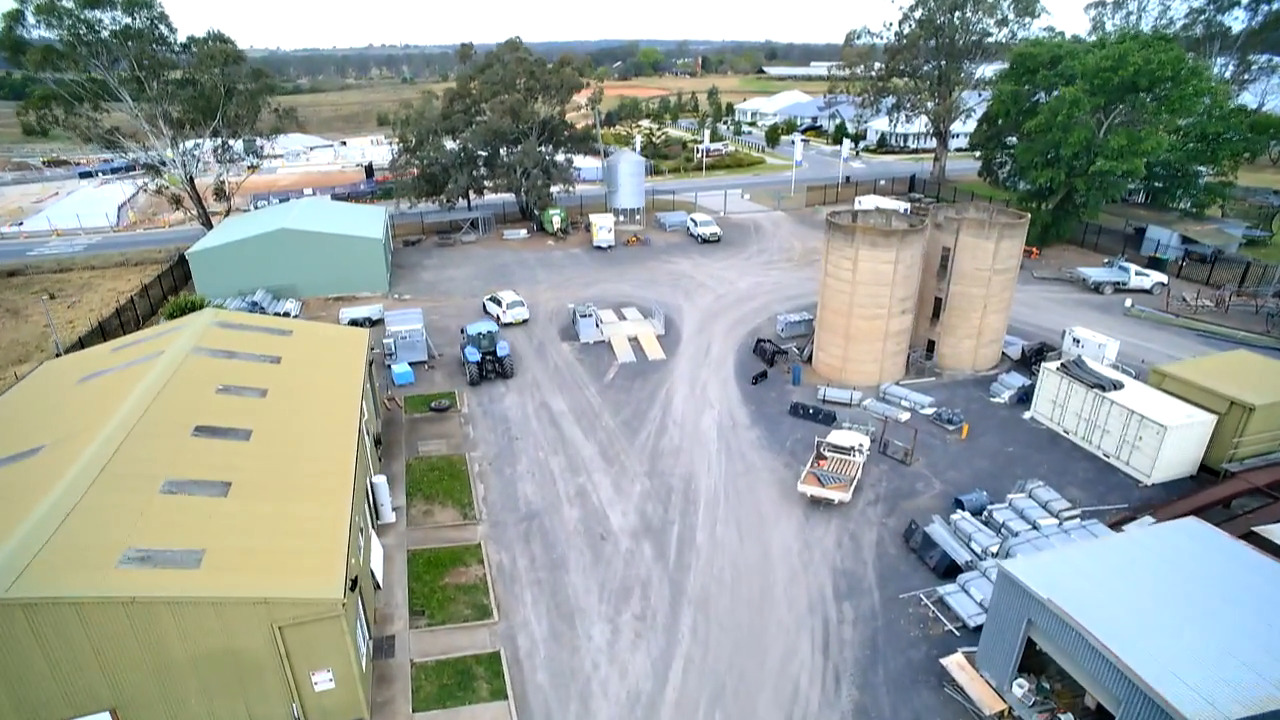Car: (482, 289, 530, 324), (685, 212, 723, 244)
